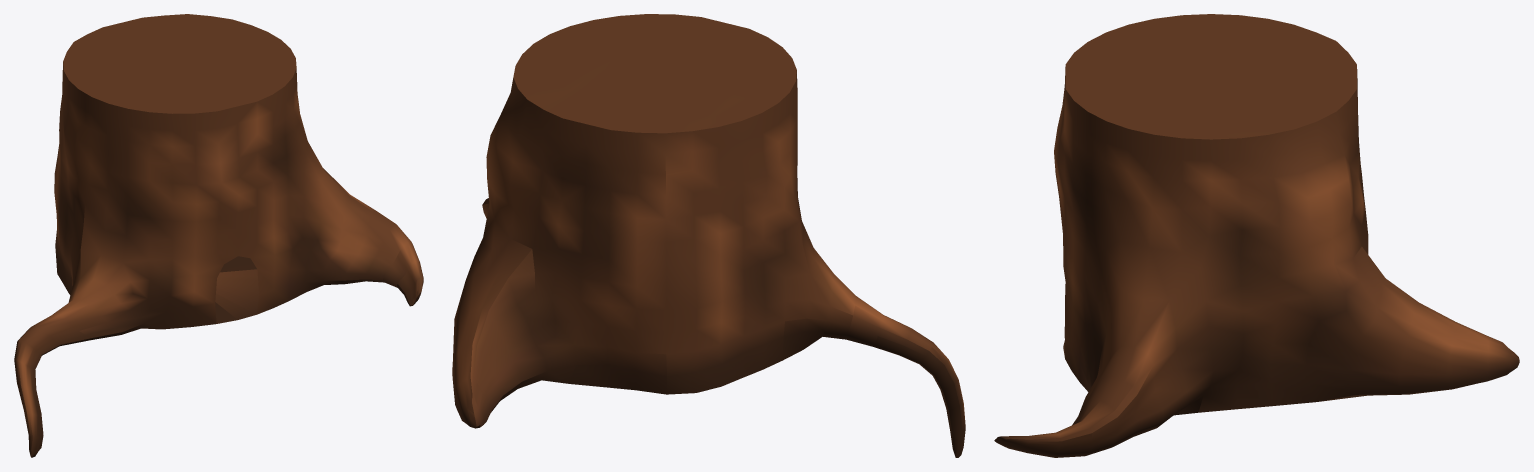
File: LargeTree2.fbx
3 views of the same model, side by side, from view 1: azimuth 30°, elevation 25°; view 2: azimuth 150°, elevation 25°; view 3: azimuth 270°, elevation 25° (orthographic). The views are drawn at different scales.
Parts seen in each view (by area): view 1: LargeTree_Bottom; view 2: LargeTree_Bottom; view 3: LargeTree_Bottom.
Boxes of the visible parts, x1,y1,x2,y2 form: LargeTree_Bottom: [14, 14, 423, 457]; LargeTree_Bottom: [452, 14, 965, 457]; LargeTree_Bottom: [994, 14, 1519, 457].
Bounding box in the file's own units: 1577 × 1185 × 1444.
